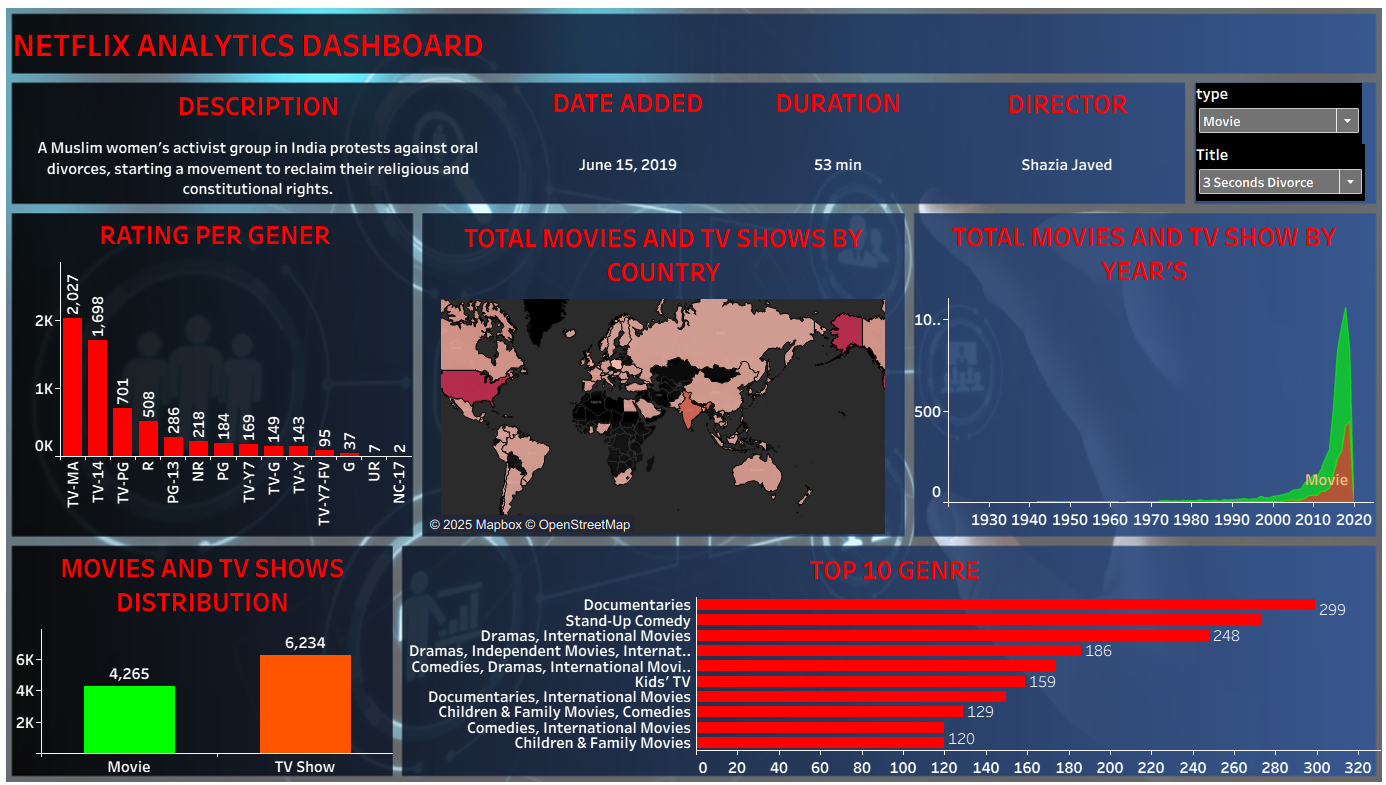

What the dashboard file says about the page in this screenshot:
{"tool":"tableau","page":{"name":"NETFLIX ANALYTICS DASHBOARD","canvas":[1400,800],"ordinal":0},"visuals":[{"type":"image","param":"Image/HR background.pptx.png","box":[8,8,1384,784]},{"type":"text","box":[422,18,530,45]},{"type":"worksheet","title":"DATE ADDED","mark":"Automatic","box":[531,86,205,118]},{"type":"worksheet","title":"DURATION","mark":"Automatic","box":[736,86,215,118]},{"type":"worksheet","title":"DIRECTIOR","mark":"Automatic","box":[960,87,226,117]},{"type":"filter","title":"DESCRIPTION","param":"[federated.0v41glg0syjkp7176p11v16ekxmx].[none:type:nk]","box":[1202,88,166,62]},{"type":"worksheet","title":"DESCRIPTION","mark":"Automatic","box":[20,89,488,120]},{"type":"filter","title":"DESCRIPTION","param":"[federated.0v41glg0syjkp7176p11v16ekxmx].[none:title:nk]","box":[1202,149,169,57]},{"type":"worksheet","title":"RATING PER GENERE","mark":"Automatic","rows":["show_id"],"cols":["rating"],"box":[23,218,395,323]},{"type":"worksheet","title":"TOTAL MOVIES AND TV SHOWS","mark":"Area","rows":["show_id"],"cols":["release_year"],"box":[920,220,460,317]},{"type":"worksheet","title":"TOTAL MOVIES AND TV SHOWS BY COUNTRY","mark":"Multipolygon","box":[430,221,478,318]},{"type":"worksheet","title":"MOVIES AND TV SHOWS DISTRIBUTION","mark":"Bar","cols":["type"],"box":[17,551,382,232]},{"type":"worksheet","title":"TOP 10 GENRE","mark":"Automatic","rows":["listed_in"],"cols":["show_id"],"box":[414,553,973,232]}]}

Visuals, with their boxes in screenshot pixels (x1, y1, x2, y2), scaled from the page's 1400x800 canvas onto the 1386x785 screenshot:
image: (left=8, top=8, right=1378, bottom=777)
text: (left=418, top=18, right=942, bottom=62)
"DATE ADDED" worksheet: (left=526, top=84, right=729, bottom=200)
"DURATION" worksheet: (left=729, top=84, right=941, bottom=200)
"DIRECTIOR" worksheet: (left=950, top=85, right=1174, bottom=200)
"DESCRIPTION" filter: (left=1190, top=86, right=1354, bottom=147)
"DESCRIPTION" worksheet: (left=20, top=87, right=503, bottom=205)
"DESCRIPTION" filter: (left=1190, top=146, right=1357, bottom=202)
"RATING PER GENERE" worksheet: (left=23, top=214, right=414, bottom=531)
"TOTAL MOVIES AND TV SHOWS" worksheet (Area marks): (left=911, top=216, right=1366, bottom=527)
"TOTAL MOVIES AND TV SHOWS BY COUNTRY" worksheet (Multipolygon marks): (left=426, top=217, right=899, bottom=529)
"MOVIES AND TV SHOWS DISTRIBUTION" worksheet (Bar marks): (left=17, top=541, right=395, bottom=768)
"TOP 10 GENRE" worksheet: (left=410, top=543, right=1373, bottom=770)
